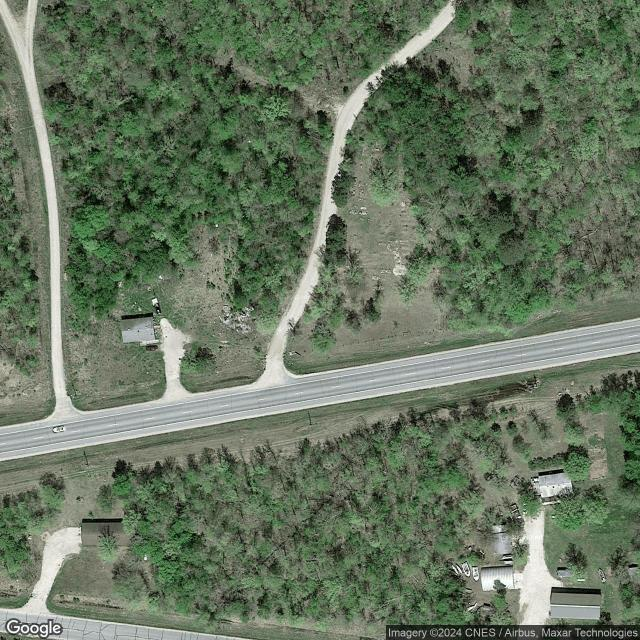Propane: (143, 553, 148, 563), (576, 577, 586, 582)
